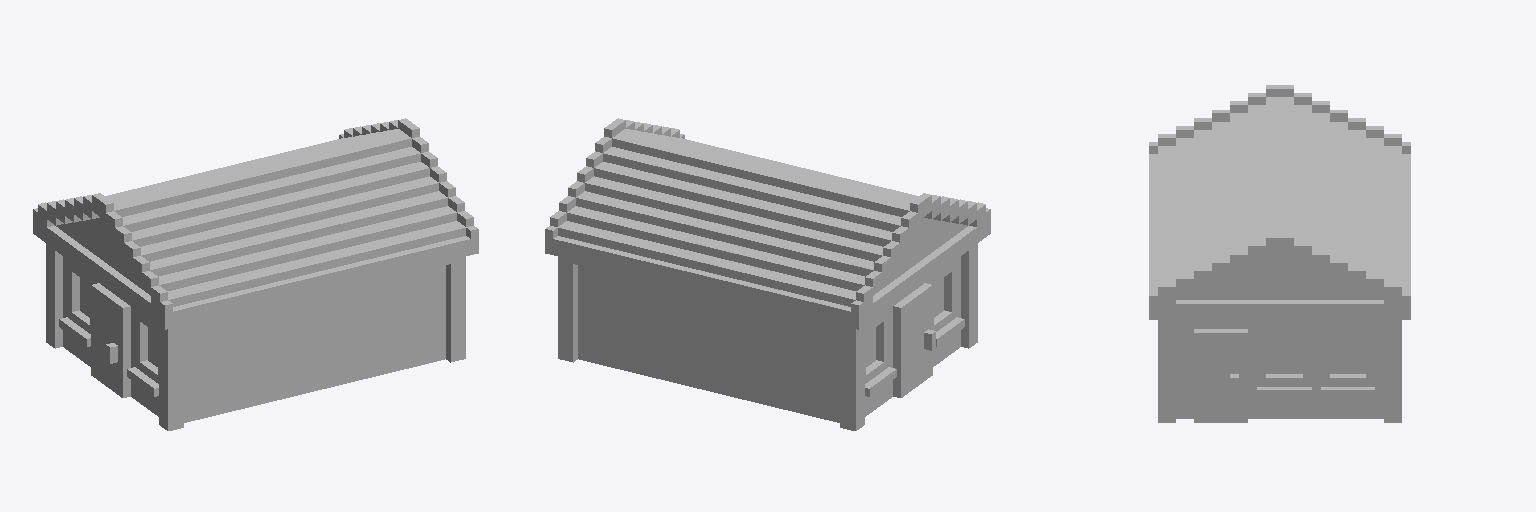
Rendered from House_V2_Snow.obj.
3 renders of one model, left to right at view 1: azimuth 30°, elevation 25°; view 2: azimuth 150°, elevation 25°; view 3: azimuth 270°, elevation 25°, orthographic.
Parts seen in each view (by area): view 1: House_V2_Snow; view 2: House_V2_Snow; view 3: House_V2_Snow.
Part boxes in pixels (x1,y1,x2,y2): House_V2_Snow: (33, 118, 478, 430); House_V2_Snow: (545, 118, 990, 430); House_V2_Snow: (1149, 85, 1410, 422).
Size of the model in its own units: 40 by 23 by 29.